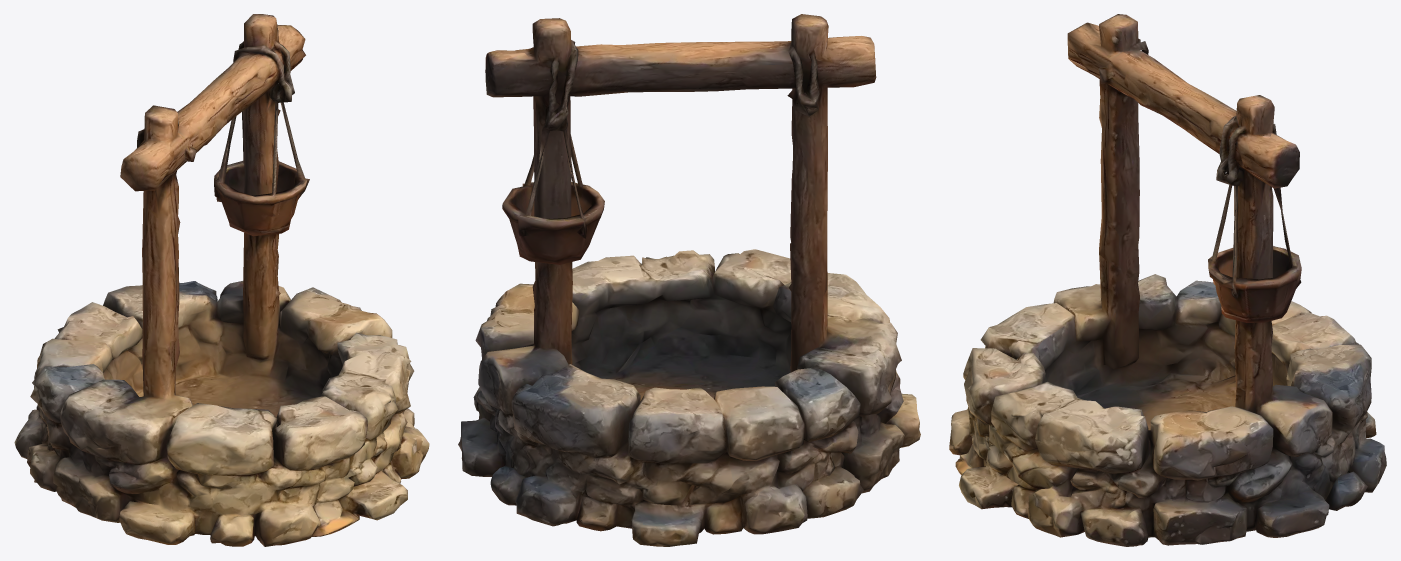
The model's file is well.glb.
3 renders of one model, left to right at view 1: azimuth 30°, elevation 25°; view 2: azimuth 150°, elevation 25°; view 3: azimuth 270°, elevation 25°, orthographic. The views are drawn at different scales.
Visible parts, largest first — view 1: tripo_node_b3caf747-ab81-458b-8edc-ecd510bab54f; view 2: tripo_node_b3caf747-ab81-458b-8edc-ecd510bab54f; view 3: tripo_node_b3caf747-ab81-458b-8edc-ecd510bab54f.
Boxes of the visible parts, box(x1,y1,x2,y2) form: tripo_node_b3caf747-ab81-458b-8edc-ecd510bab54f: box(14, 14, 429, 546); tripo_node_b3caf747-ab81-458b-8edc-ecd510bab54f: box(458, 14, 920, 546); tripo_node_b3caf747-ab81-458b-8edc-ecd510bab54f: box(949, 14, 1386, 546).
Bounding box in the file's own units: 0.9089 × 1 × 0.9761.
Materials: 1 (1 with a texture image).
